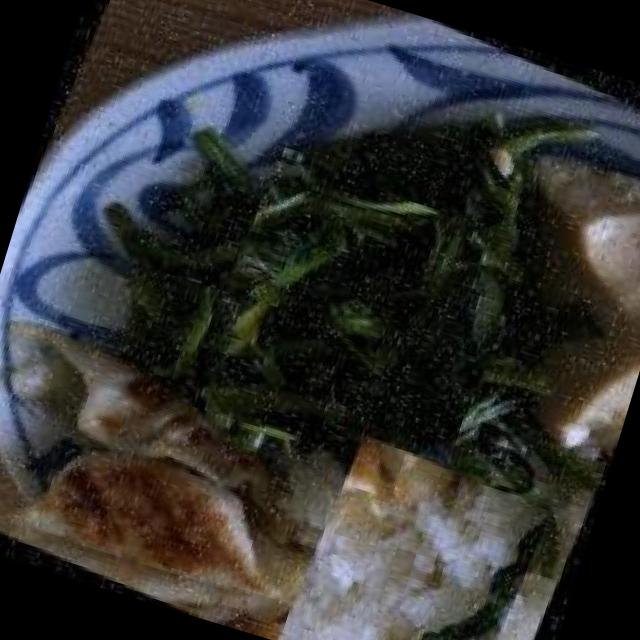fried_dumplings: (0, 318, 328, 636)
rice: (260, 435, 565, 640)
water_spinach: (172, 136, 543, 504)
